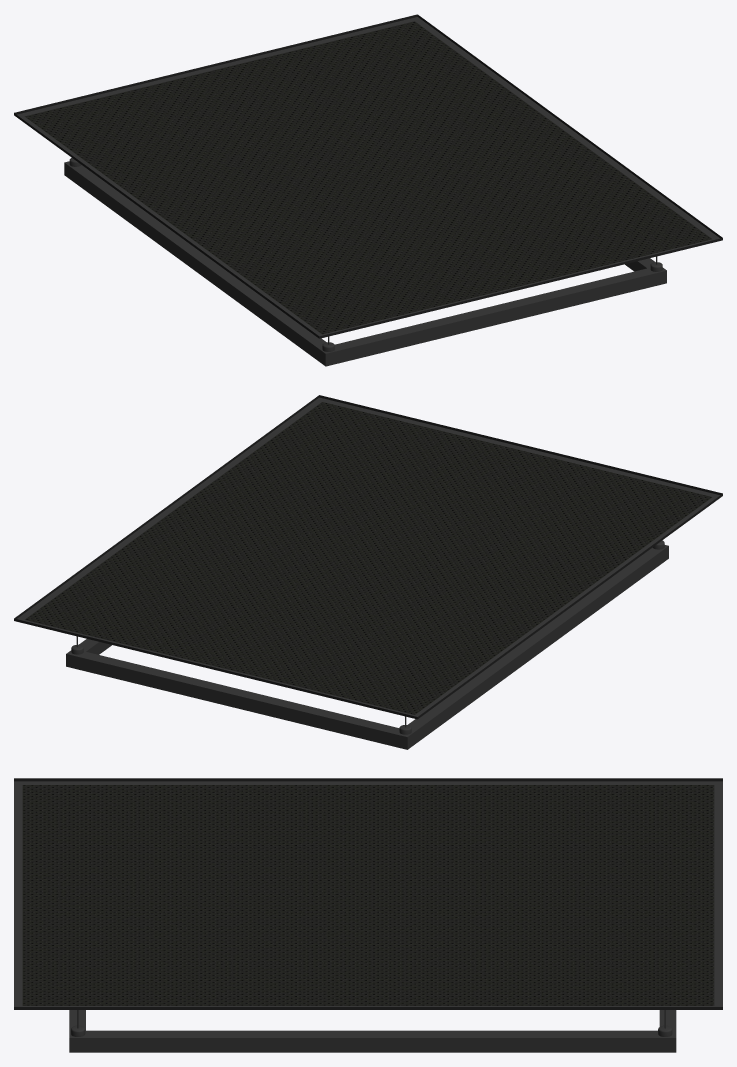
Rendered from hanging lamp3.FBX.
The picture shows the model from 3 angles, top to bottom: view 1: azimuth 30°, elevation 25°; view 2: azimuth 150°, elevation 25°; view 3: azimuth 270°, elevation 25°; orthographic projection. The views are drawn at different scales.
Visible parts, largest first — view 1: hanging lamp3; view 2: hanging lamp3; view 3: hanging lamp3.
Part boxes in pixels (x1,y1,x2,y2): hanging lamp3: [14, 14, 722, 366]; hanging lamp3: [14, 395, 722, 749]; hanging lamp3: [14, 778, 722, 1052].
Bounding box in the file's own units: 99.57 × 130 × 12.96.
1 material, 1 textured.
